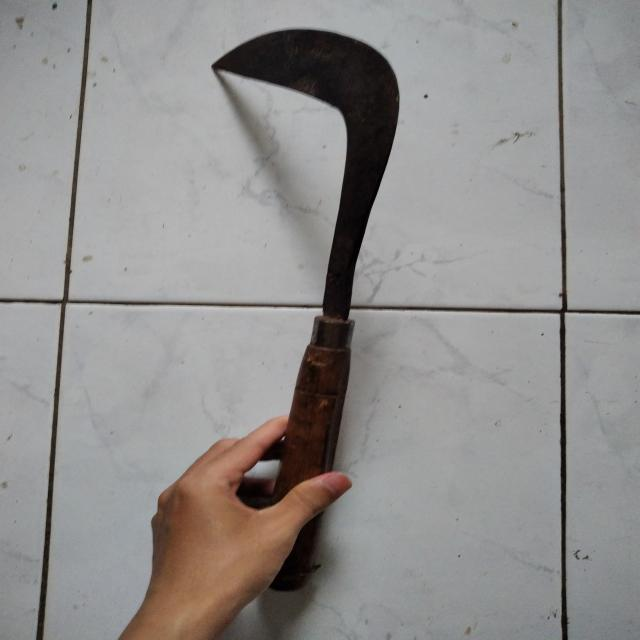Celurit: (212, 28, 403, 593)
